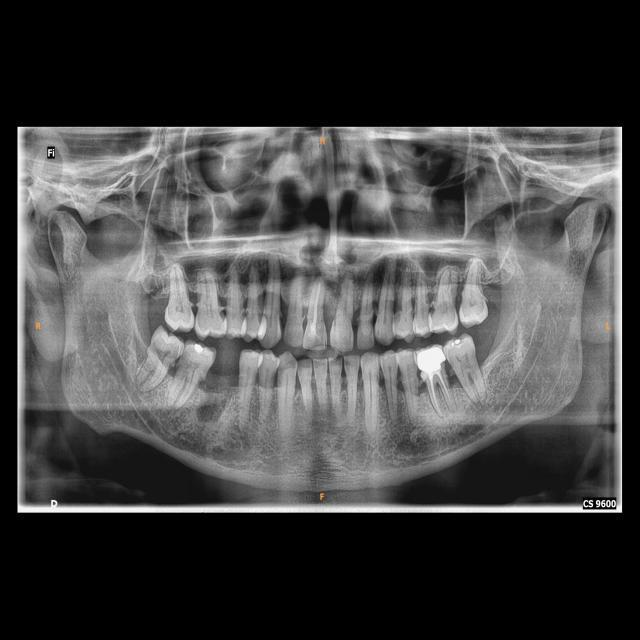kanal-tedavisi: (429, 376, 450, 410), (309, 286, 325, 324)
kaplama: (415, 344, 448, 374)
